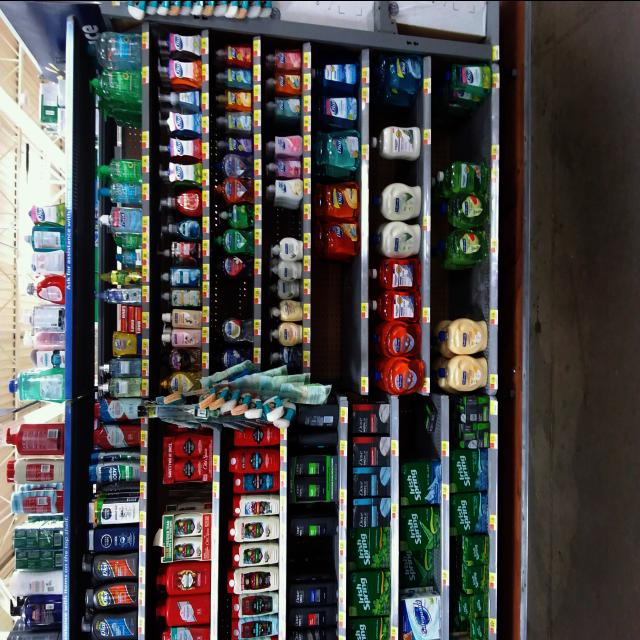empty_space: (316, 264, 356, 380), (444, 119, 488, 161), (440, 274, 484, 314), (37, 137, 65, 199), (108, 127, 144, 157), (169, 479, 215, 501), (224, 280, 252, 316), (299, 538, 340, 562), (407, 432, 441, 460), (379, 105, 421, 127), (382, 159, 422, 181), (272, 208, 302, 236), (25, 401, 59, 422)
